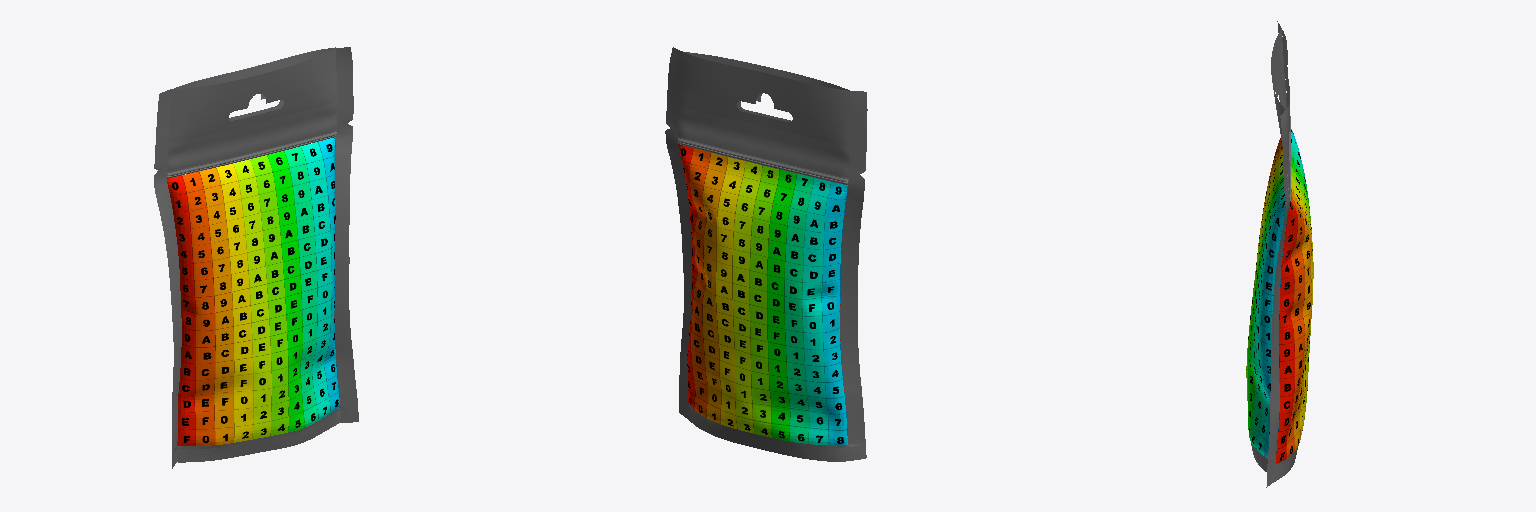
The picture shows the model from 3 angles: view 1: azimuth 30°, elevation 25°; view 2: azimuth 150°, elevation 25°; view 3: azimuth 270°, elevation 25°; orthographic projection.
Parts seen in each view (by area): view 1: Object012; view 2: Object012; view 3: Object012.
Boxes of the visible parts, <box> form: Object012: <box>154,47,358,468</box>; Object012: <box>665,47,867,461</box>; Object012: <box>1246,21,1313,487</box>.
Bounding box in the file's own units: 30.47 × 54.64 × 8.89.
3 materials, 1 textured.